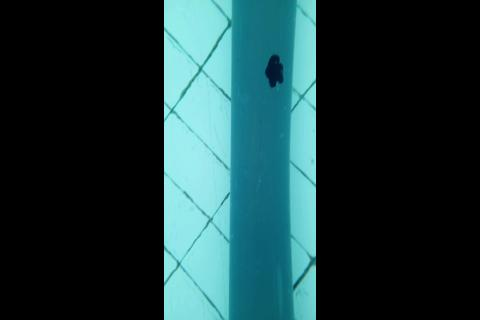kebocoran: (263, 52, 284, 88)
